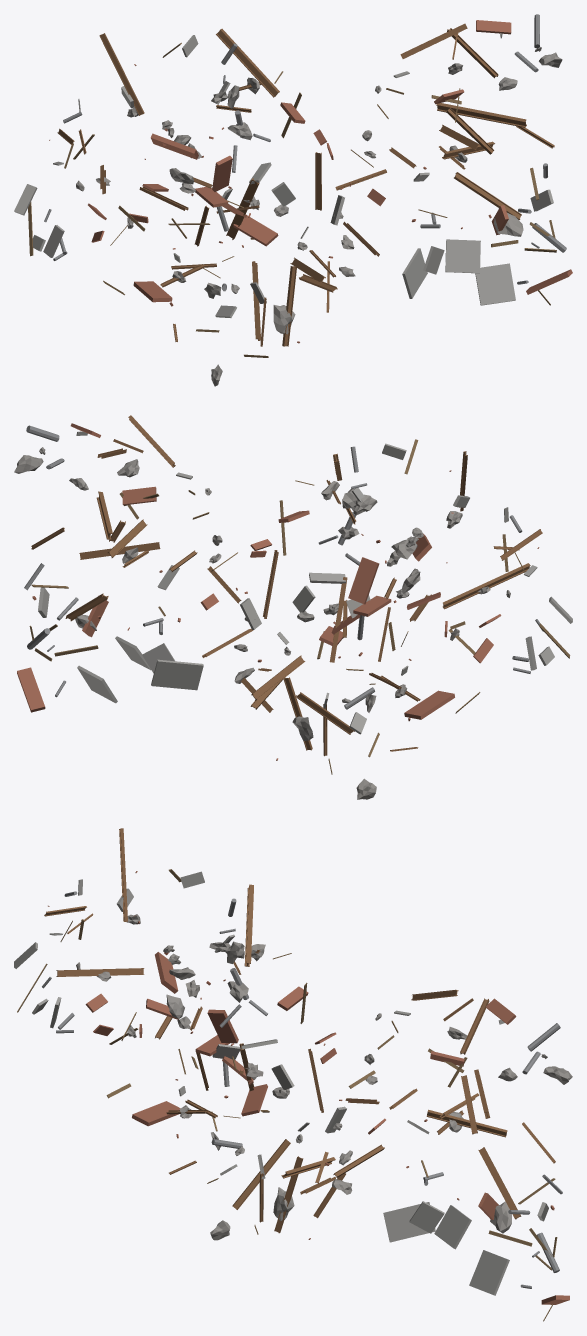
File: batch_RUBBLE_n001_p002.glb
The picture shows the model from 3 angles, top to bottom: view 1: azimuth 30°, elevation 25°; view 2: azimuth 150°, elevation 25°; view 3: azimuth 330°, elevation 25°; orthographic projection. The views are drawn at different scales.
Parts seen in each view (by area): view 1: SAR_Building_RUB_001_CollapsedSlab_01.001; view 2: SAR_Building_RUB_001_CollapsedSlab_01.001; view 3: SAR_Building_RUB_001_CollapsedSlab_01.001.
Part boxes in pixels (x1,y1,x2,y2): SAR_Building_RUB_001_CollapsedSlab_01.001: [14, 14, 572, 386]; SAR_Building_RUB_001_CollapsedSlab_01.001: [14, 415, 572, 799]; SAR_Building_RUB_001_CollapsedSlab_01.001: [14, 828, 572, 1321].
Bounding box in the file's own units: 52.21 × 33.59 × 7.43.
